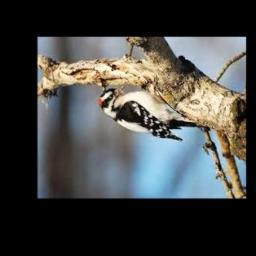Woodpecker: (99, 84, 210, 140)
